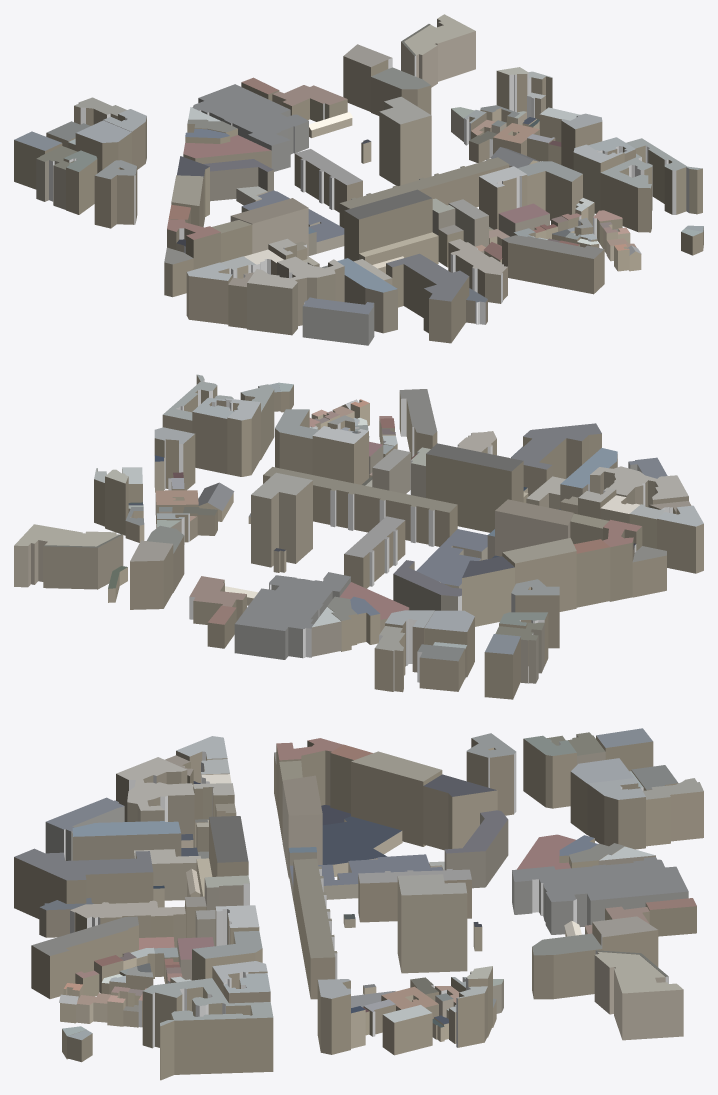
The picture shows the model from 3 angles, top to bottom: view 1: azimuth 30°, elevation 25°; view 2: azimuth 150°, elevation 25°; view 3: azimuth 270°, elevation 25°; orthographic projection. The views are drawn at different scales.
Visible parts, largest first — view 1: tuile; view 2: tuile; view 3: tuile.
Part boxes in pixels (<box>): tuile: <box>14,14,703,345</box>; tuile: <box>14,374,703,699</box>; tuile: <box>14,728,703,1080</box>.
Size of the model in its own units: 282 by 42.74 by 280.
